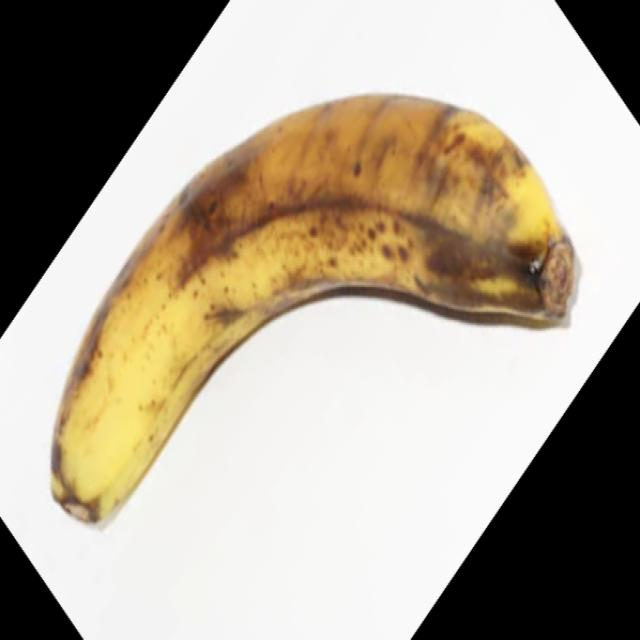overripe: (46, 84, 577, 529)
